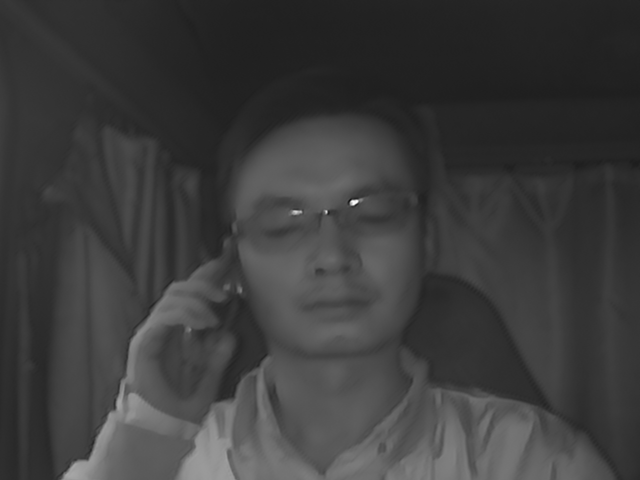hand: (123, 260, 241, 419)
